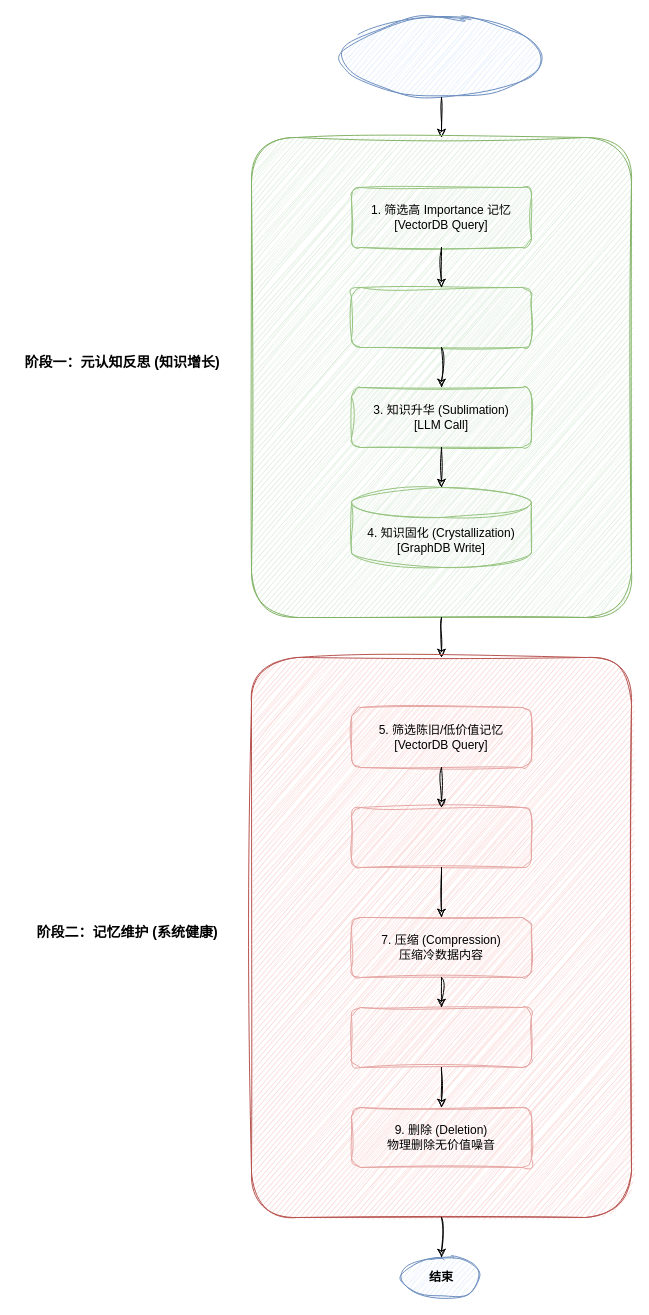
The diagram is 649 pixels wide and 1315 high, and some of its shapes have lost their labels. The shapes that lost their labels are listed below. From the top down, each one's box as (x1, y1, x2, y2) in pixels, then its label:
(340, 16, 542, 98): 开始：调用 run_maintenance()
(350, 286, 532, 348): 2. 主题聚类 (Clustering)
(350, 806, 532, 868): 6. 固化 (Consolidation) 合并相似记忆
(350, 1006, 532, 1068): 8. 归档 (Archiving) 迁移到冷存储
